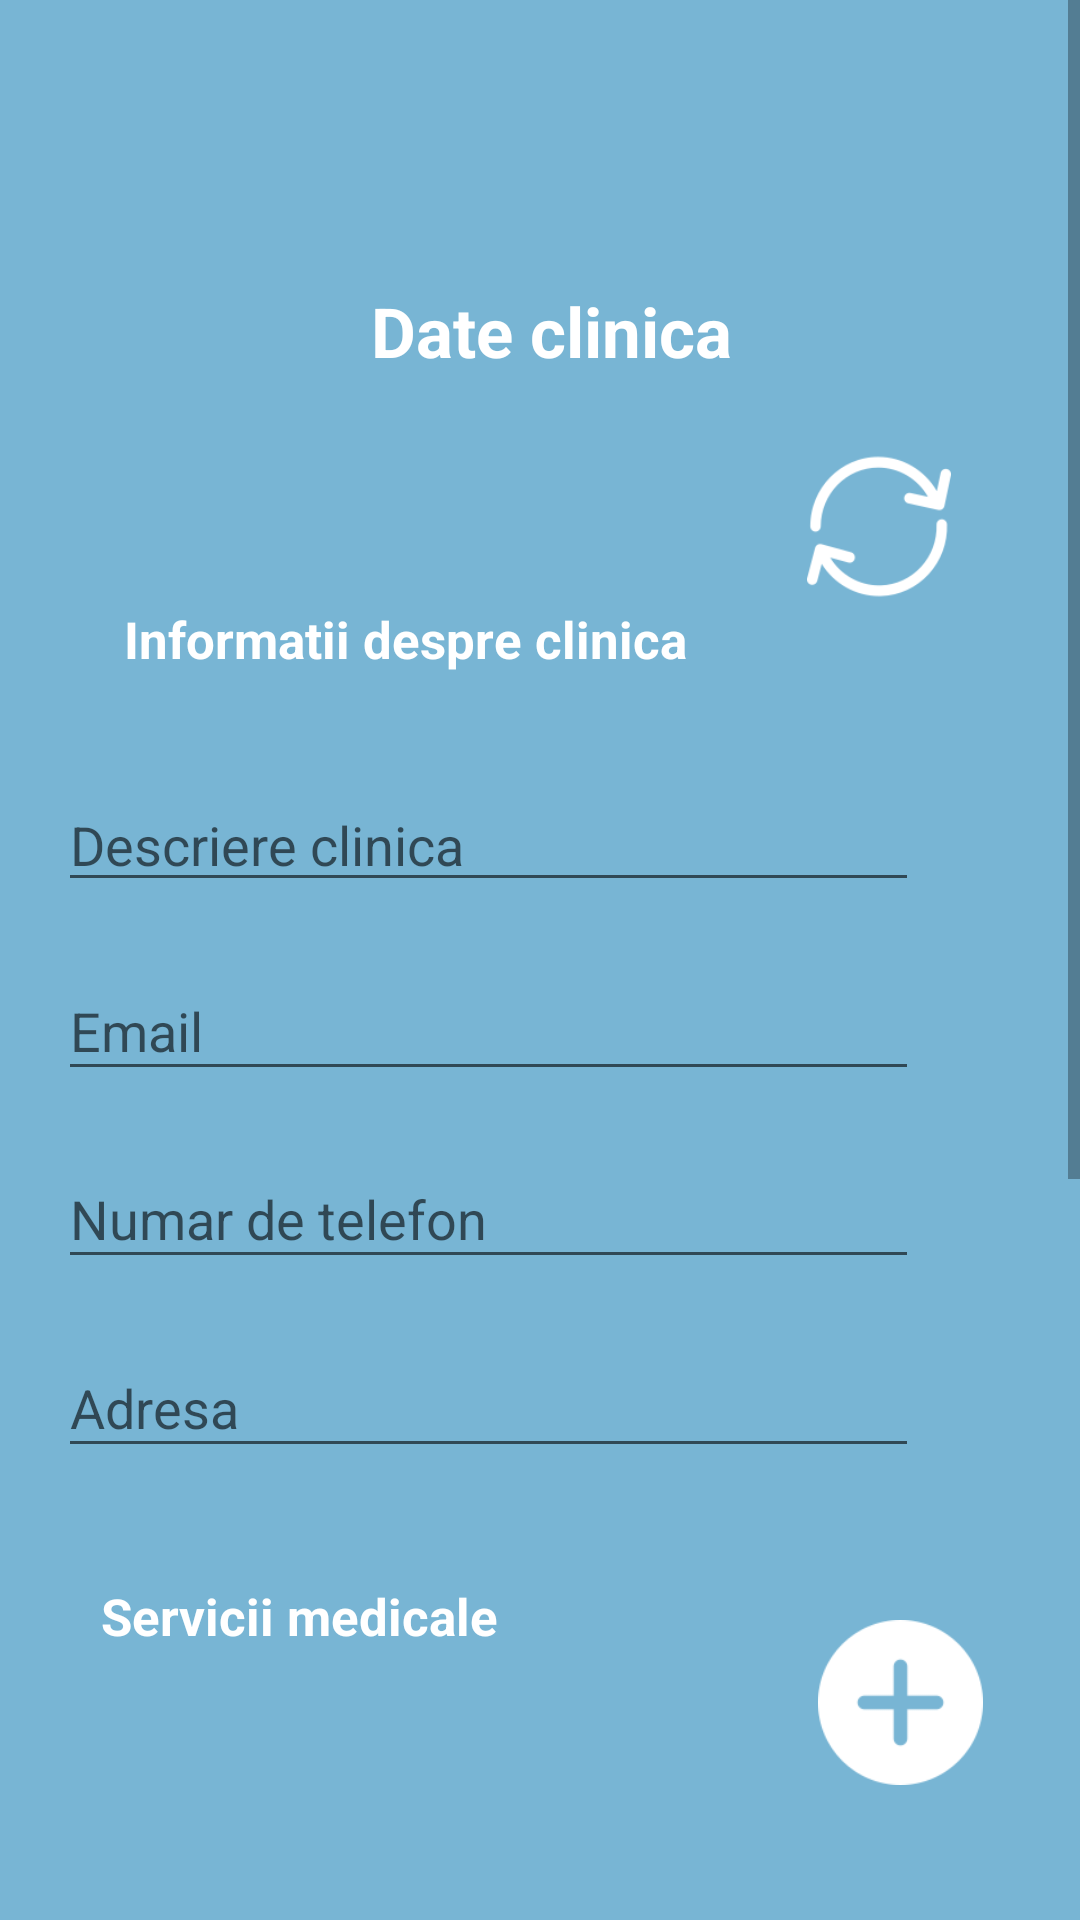

Icons on this 1080px x 1920px Android screen, each with its box as bbox(x1, y1, x2, y2):
refresh: bbox(807, 456, 951, 597)
